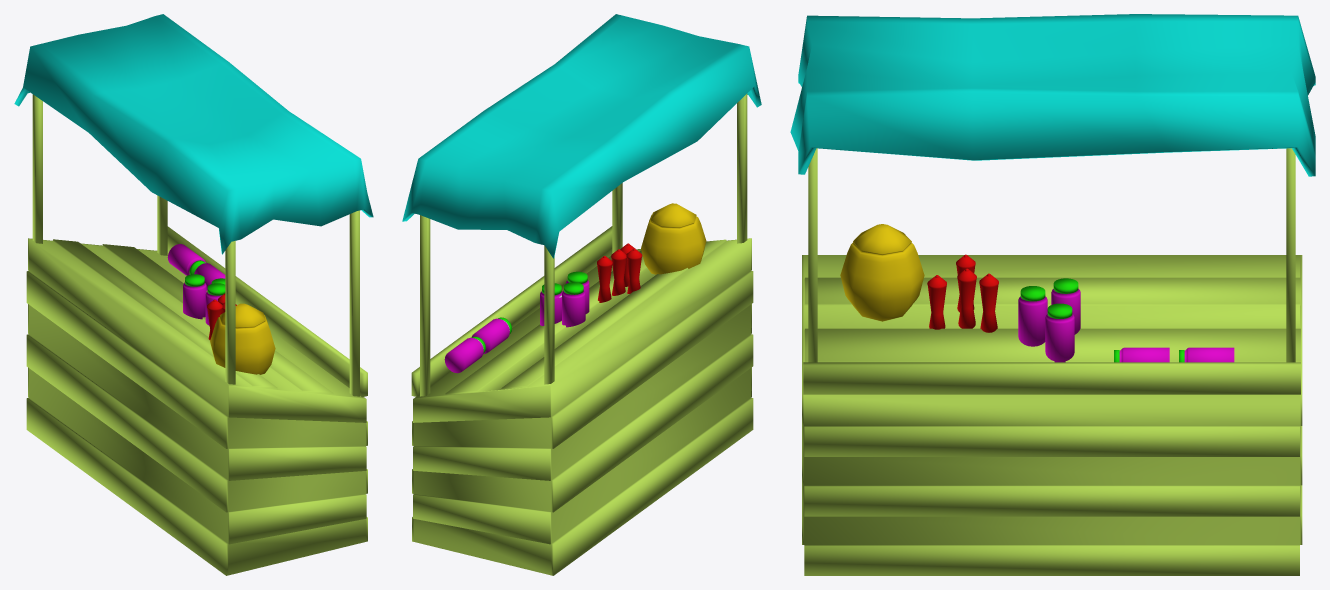
Rendered from stragan.fbx.
3 views of the same model, side by side, from view 1: azimuth 30°, elevation 25°; view 2: azimuth 150°, elevation 25°; view 3: azimuth 270°, elevation 25° (orthographic). The views are drawn at different scales.
Parts seen in each view (by area): view 1: stragan; view 2: stragan; view 3: stragan.
Boxes of the visible parts, left/top/right/bottom form: stragan: left=14, top=14, right=373, bottom=575; stragan: left=402, top=14, right=761, bottom=575; stragan: left=790, top=14, right=1315, bottom=575.
Size of the model in its own units: 85.76 by 200 by 200.
